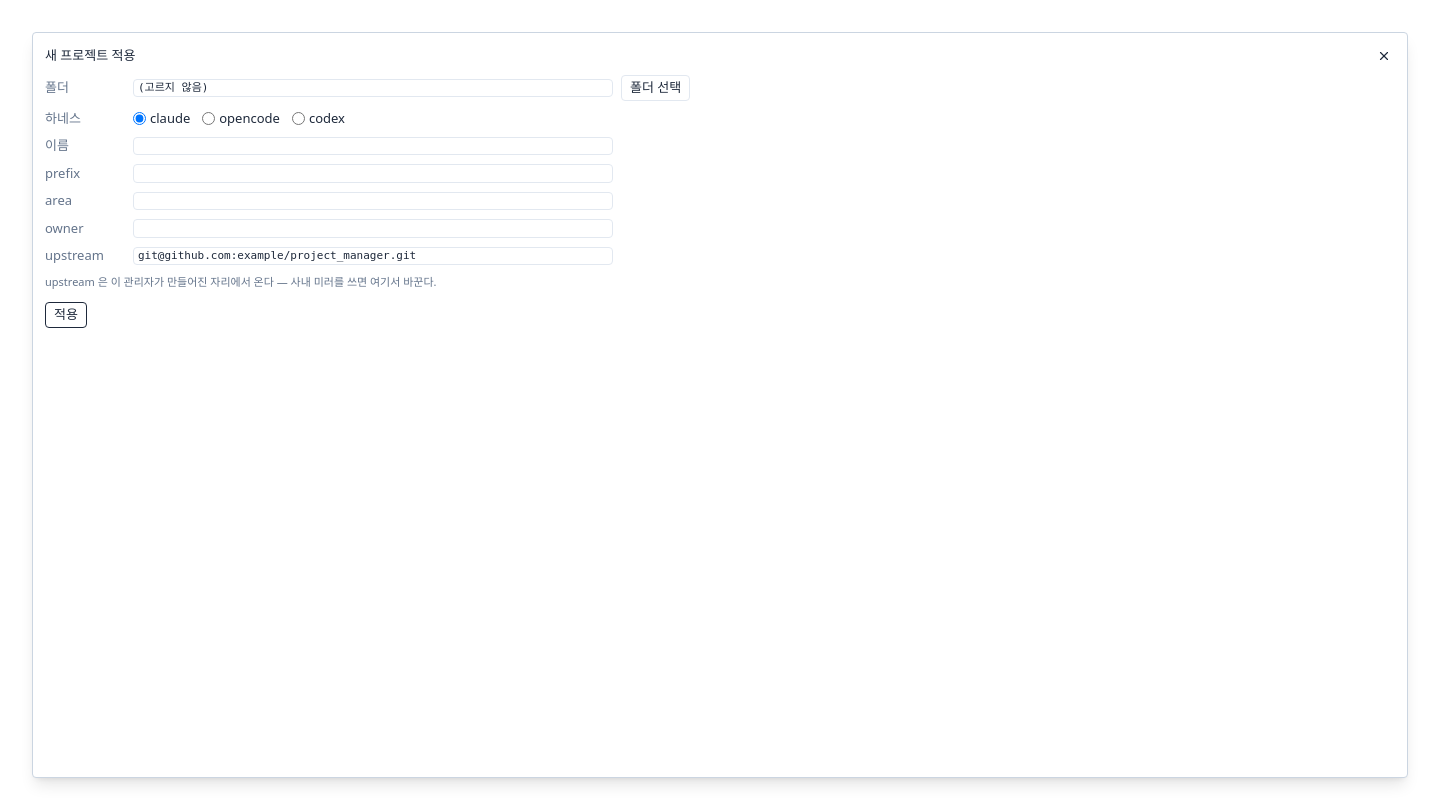
Test: prefix 확인 대화 › 취소하면 대화만 닫히고 아무것도 부르지 않는다
Check: the field named "upstream" is shown, box x1=133 y1=246 x2=613 y2=265
Step 1. Click the button "폴더 선택" → (656, 88), box x1=621 y1=75 x2=690 y2=100
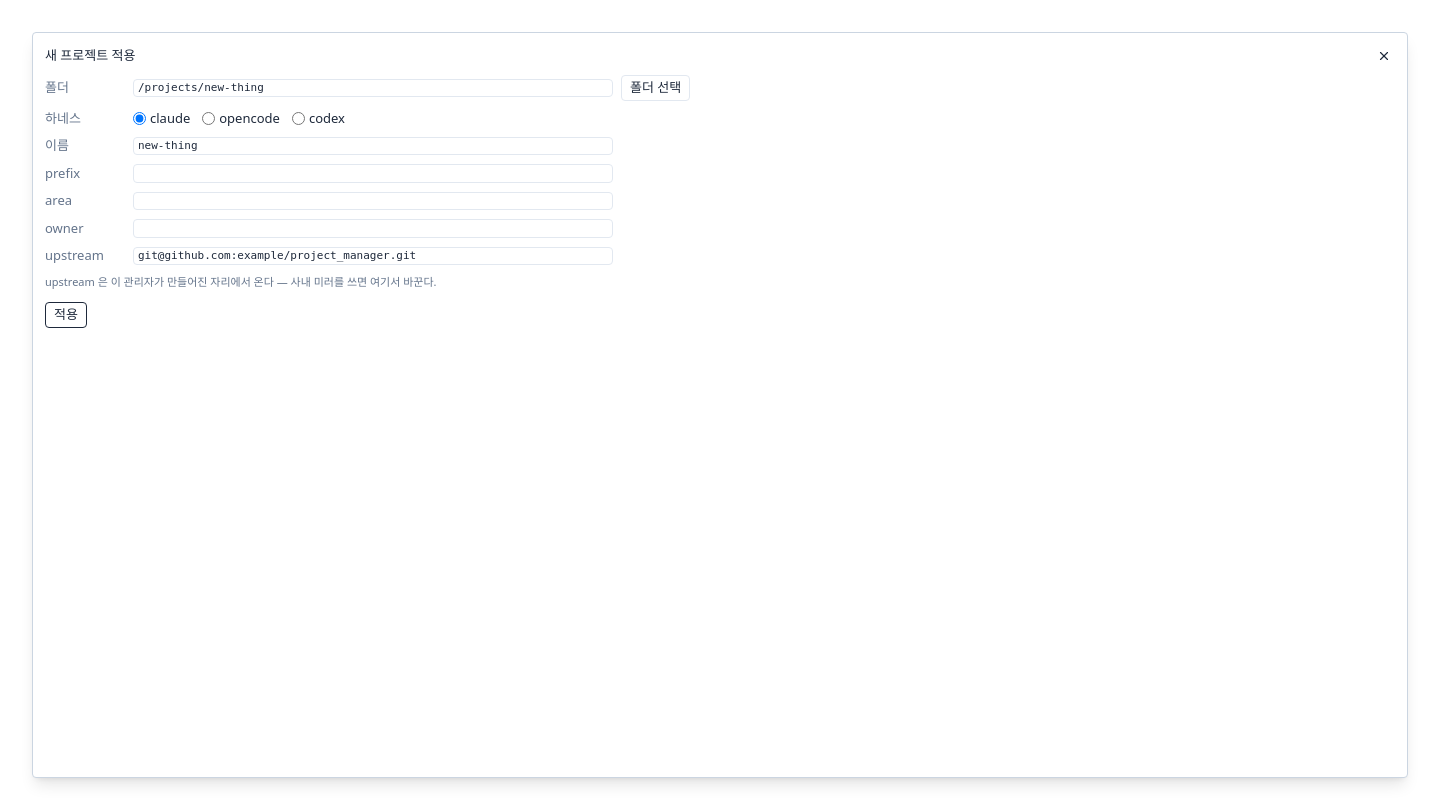
Check: the text "/projects/new-thing" is shown, box x1=133 y1=78 x2=613 y2=97
Step 2. Type "pay" into the field named "prefix" → (373, 173), box x1=133 y1=164 x2=613 y2=182
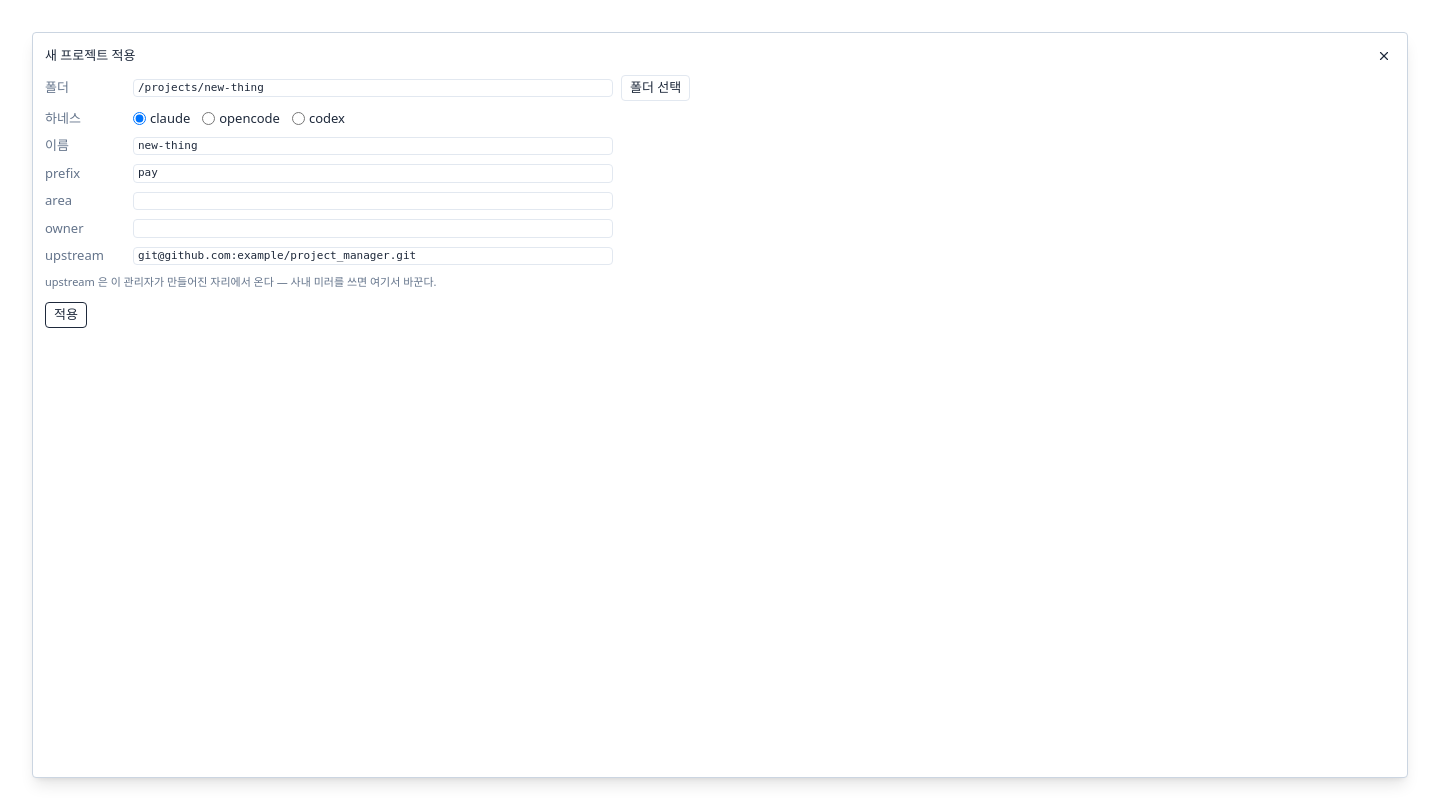
Step 3. Click the button with test id "new-apply" → (66, 315), box x1=45 y1=302 x2=87 y2=328
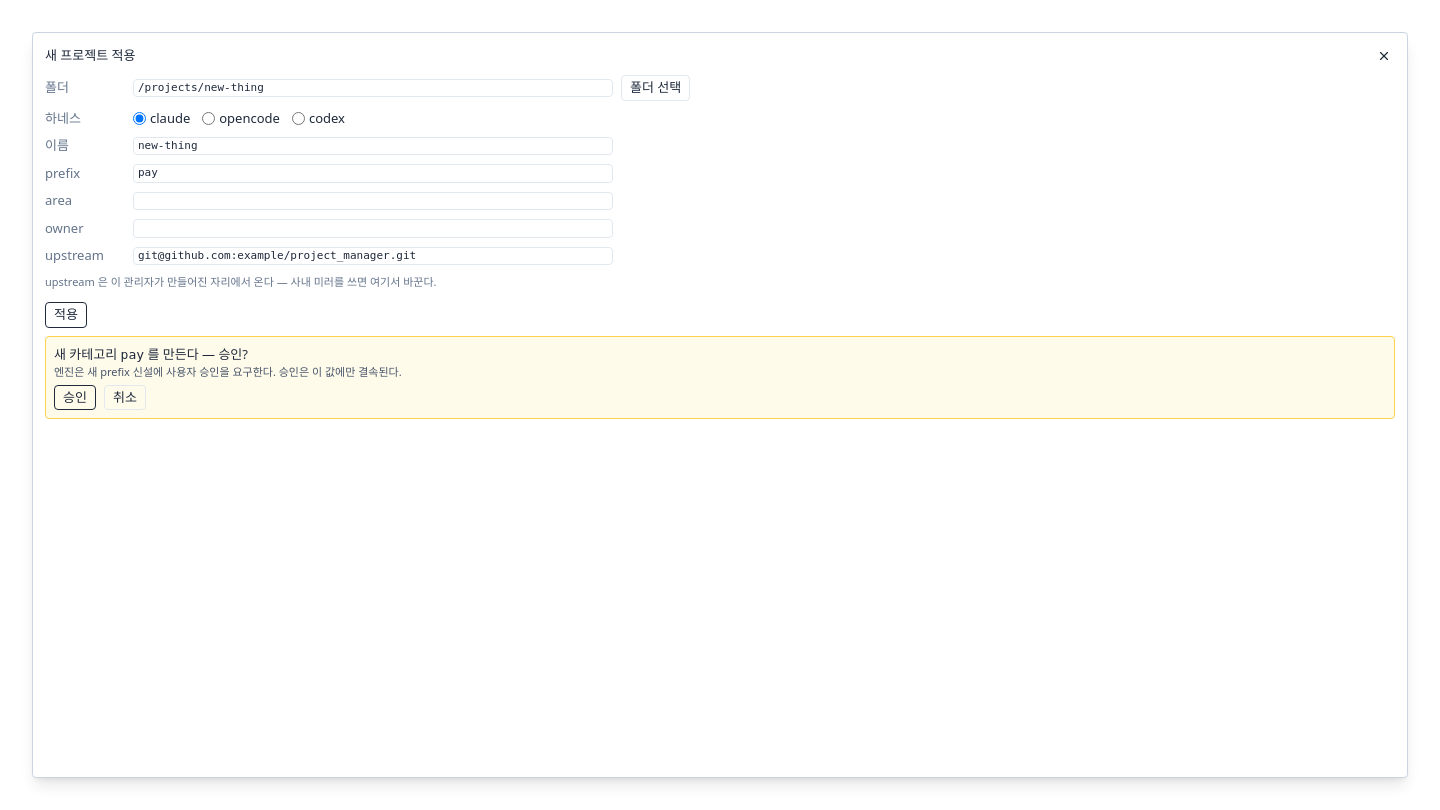
Step 4. Click the button with test id "prefix-cancel" → (125, 397), box x1=104 y1=384 x2=146 y2=410
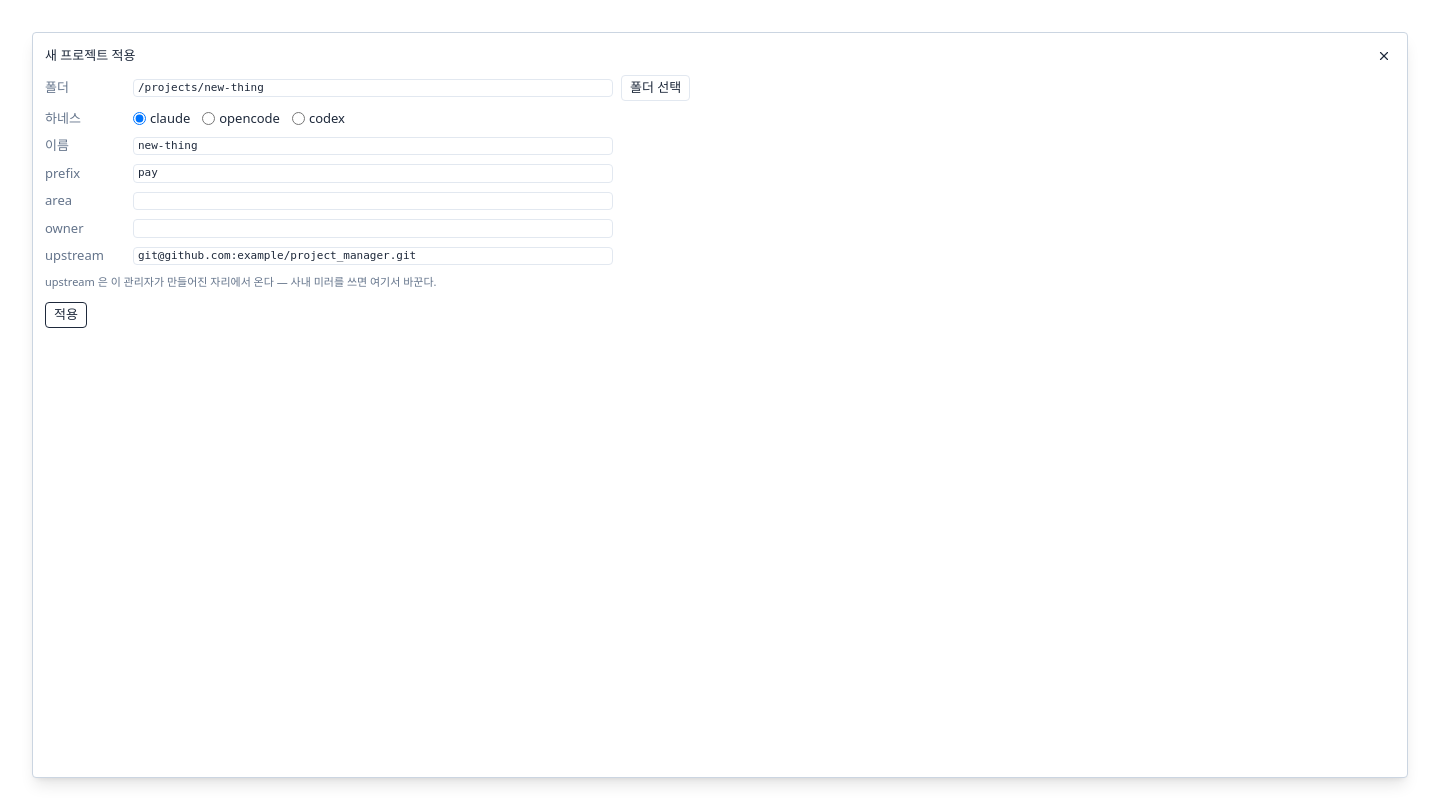
Check: the dialog with test id "prefix-confirm" is gone
